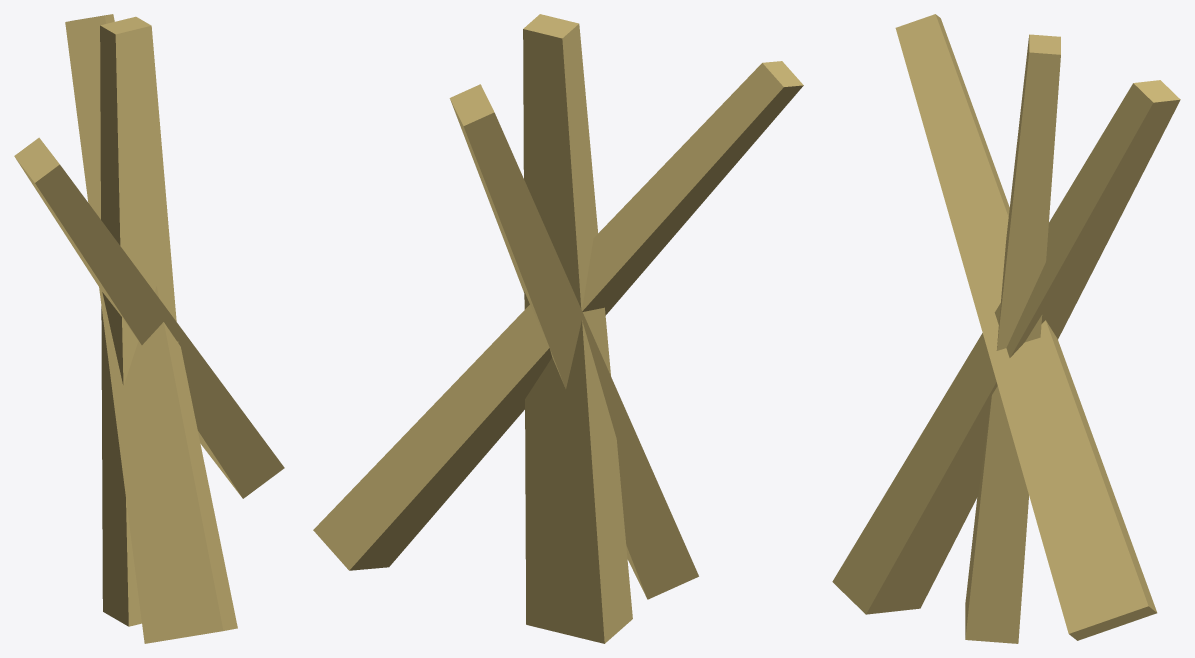
File: hay_wisp.glb
The picture shows the model from 3 angles, left to right: view 1: azimuth 30°, elevation 25°; view 2: azimuth 150°, elevation 25°; view 3: azimuth 270°, elevation 25°; orthographic projection. The views are drawn at different scales.
Visible parts, largest first — view 1: HayWisp; view 2: HayWisp; view 3: HayWisp.
Boxes of the visible parts, bbox=[...] form: HayWisp: bbox=[14, 14, 284, 643]; HayWisp: bbox=[313, 14, 803, 643]; HayWisp: bbox=[832, 14, 1180, 643].
Bounding box in the file's own units: 0.0739 × 0.1207 × 0.0654.
